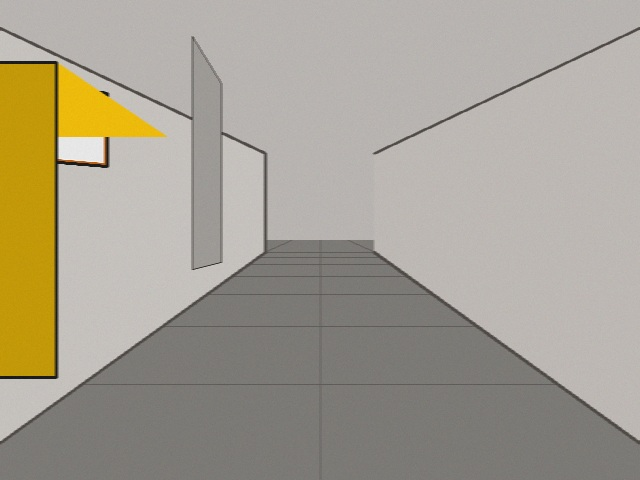directional_sign: (0, 63, 107, 166)
forklift: (0, 62, 166, 377)
